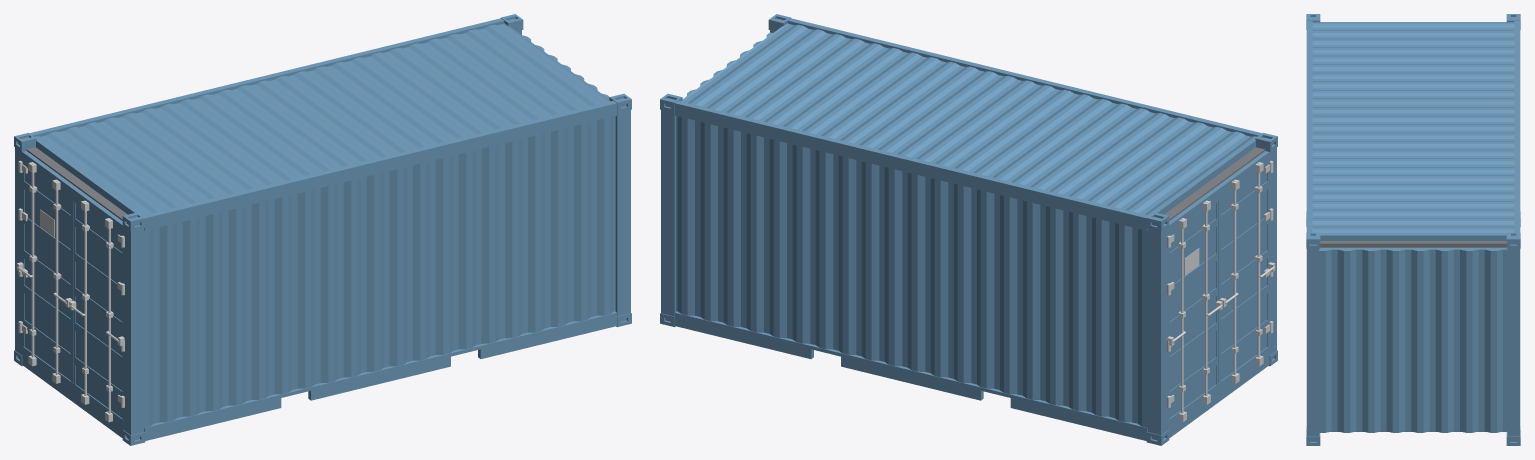
The model's file is Shipping_Container_20ft.glb.
3 renders of one model, left to right at view 1: azimuth 30°, elevation 25°; view 2: azimuth 150°, elevation 25°; view 3: azimuth 270°, elevation 25°, orthographic. The views are drawn at different scales.
Parts seen in each view (by area): view 1: side_wall_2, roof, frame, doors, locking_bars, door_frame, corner_castings, core, hinges; view 2: side_wall, roof, frame, doors, locking_bars, door_frame, corner_castings, core, hinges; view 3: roof, front_wall, frame, core, corner_castings.
Boxes of the visible parts, x1,y1,x2,y2 form: side_wall_2: (144,116,615,427); roof: (34,23,610,215); frame: (15,18,630,440); doors: (22,169,123,419); locking_bars: (16,162,124,422); door_frame: (22,151,123,437); corner_castings: (14,14,631,445); core: (26,147,127,220); hinges: (18,160,124,407); side_wall: (676,116,1147,427); roof: (681,23,1257,215); frame: (661,18,1276,440); doors: (1168,169,1269,419); locking_bars: (1167,162,1275,422); door_frame: (1168,151,1269,437); corner_castings: (660,14,1277,445); core: (1164,147,1265,220); hinges: (1167,160,1273,407); roof: (1312,22,1514,240); front_wall: (1319,247,1507,432); frame: (1306,21,1520,436); core: (1320,241,1506,247); corner_castings: (1306,14,1520,445).
Size of the model in its own units: 6.11 by 2.59 by 2.44.
